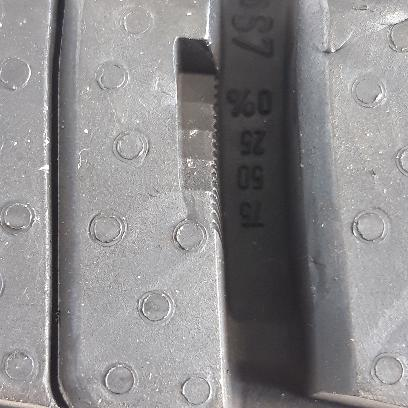temoin:100: (169, 34, 230, 249)
